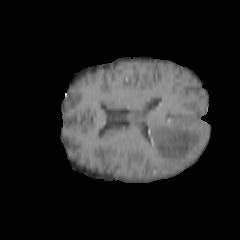glioma: (144, 117, 204, 161)
